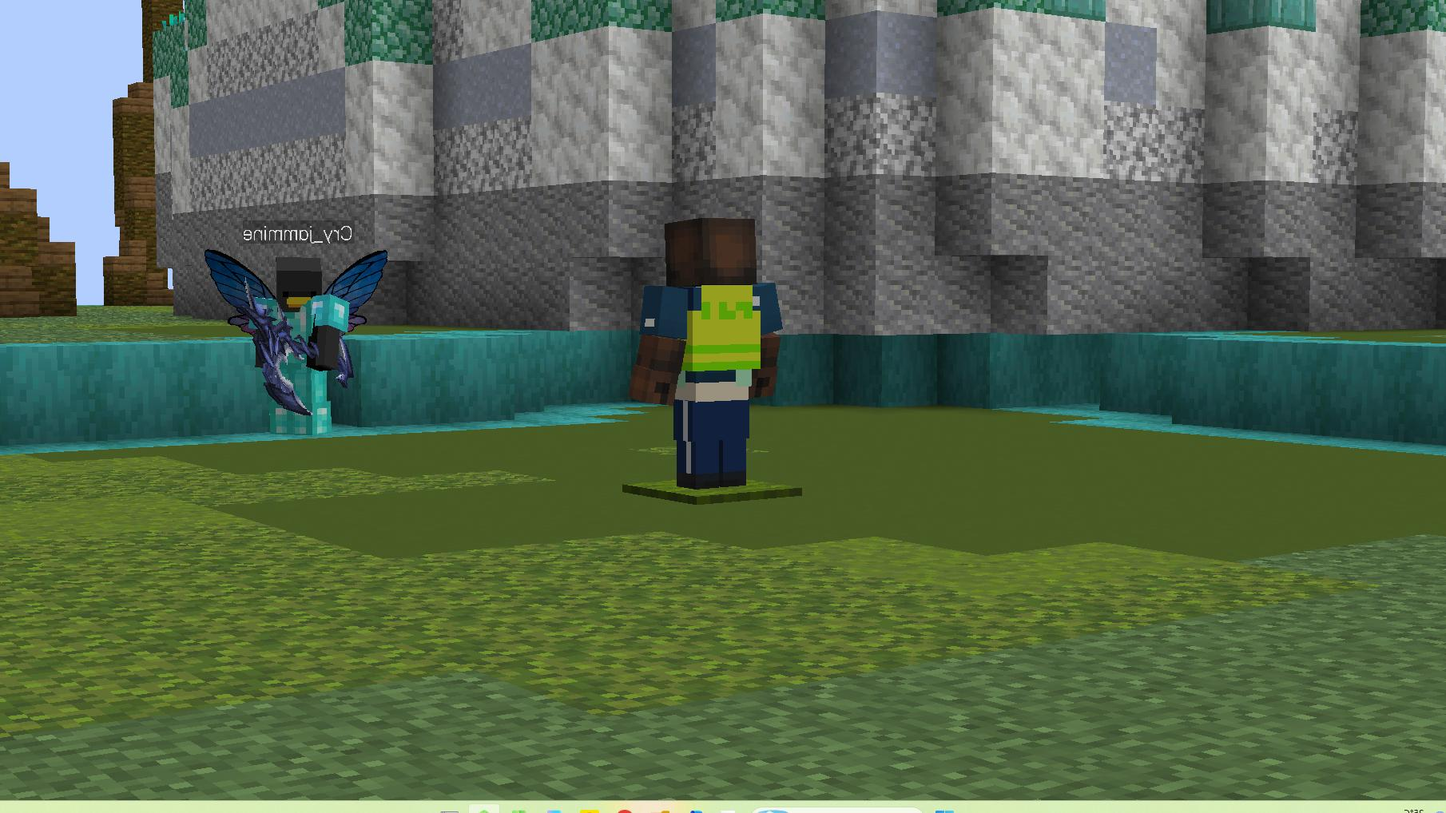Guardian: (630, 218, 781, 491)
